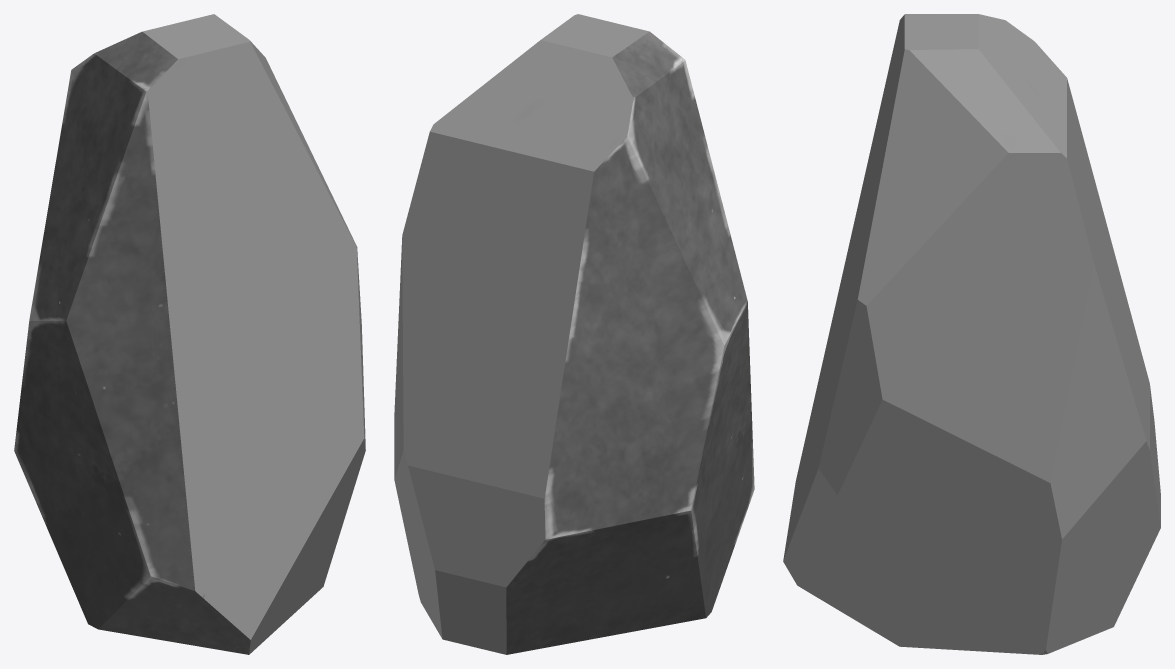
Rendered from SM_Roca1.fbx.
3 renders of one model, left to right at view 1: azimuth 30°, elevation 25°; view 2: azimuth 150°, elevation 25°; view 3: azimuth 270°, elevation 25°, orthographic.
Parts seen in each view (by area): view 1: SM_Roca2; view 2: SM_Roca2; view 3: SM_Roca2.
Part boxes in pixels (<box>): SM_Roca2: <box>14,14,365,654</box>; SM_Roca2: <box>394,14,754,654</box>; SM_Roca2: <box>783,14,1160,654</box>.
Bounding box in the file's own units: 174 × 315 × 191.
